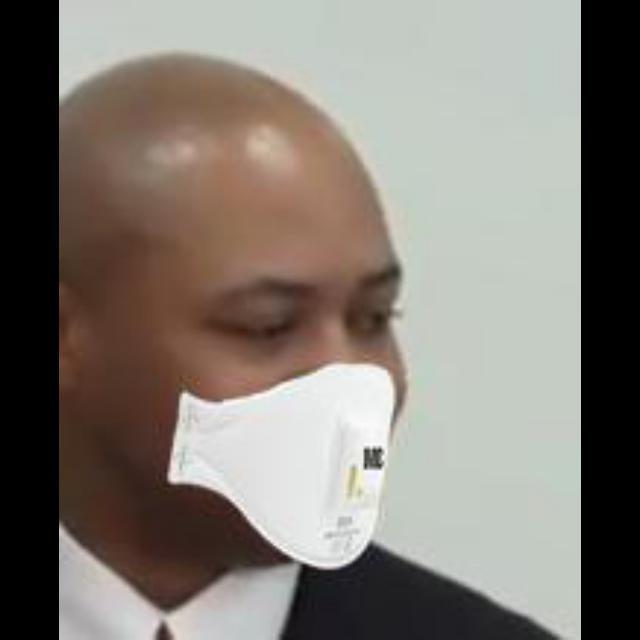suspicion: (102, 109, 404, 575)
